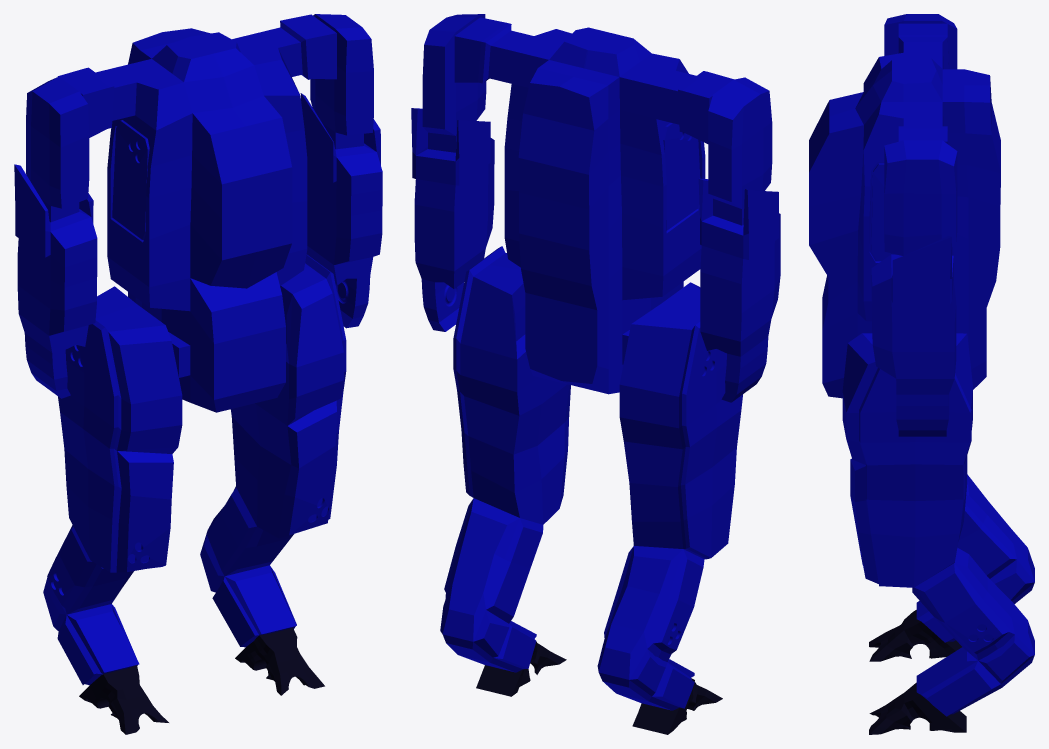
File: robot_mining_01.fbx
3 views of the same model, side by side, from view 1: azimuth 30°, elevation 25°; view 2: azimuth 150°, elevation 25°; view 3: azimuth 270°, elevation 25° (orthographic). The views are drawn at different scales.
Parts seen in each view (by area): view 1: Cube (×2); view 2: Cube (×2); view 3: Cube (×2).
Boxes of the visible parts, box(x1,y1,x2,y2) form: Cube (×2): box(14, 14, 382, 734); Cube (×2): box(411, 14, 780, 734); Cube (×2): box(809, 14, 1034, 734).
Size of the model in its own units: 692 by 1278 by 423.
